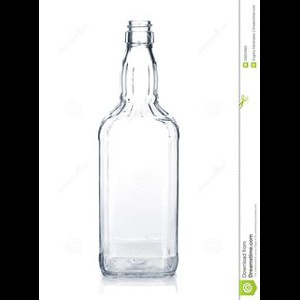emptybottle: (98, 20, 178, 277)
